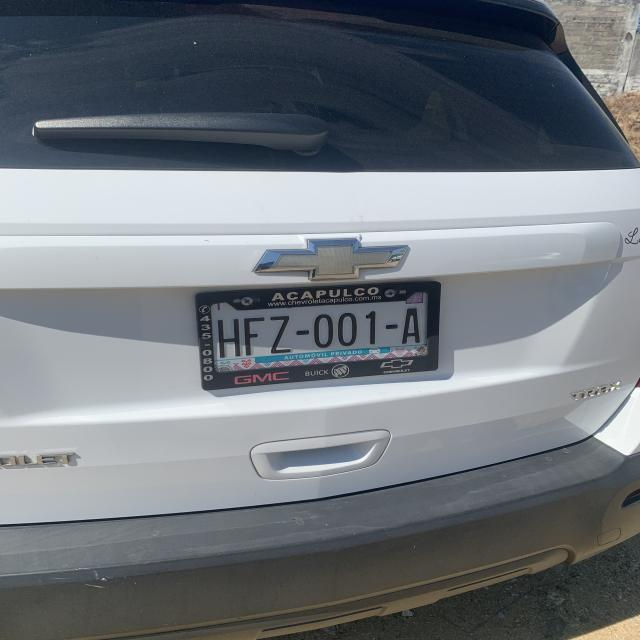placa: (203, 304, 433, 359)
